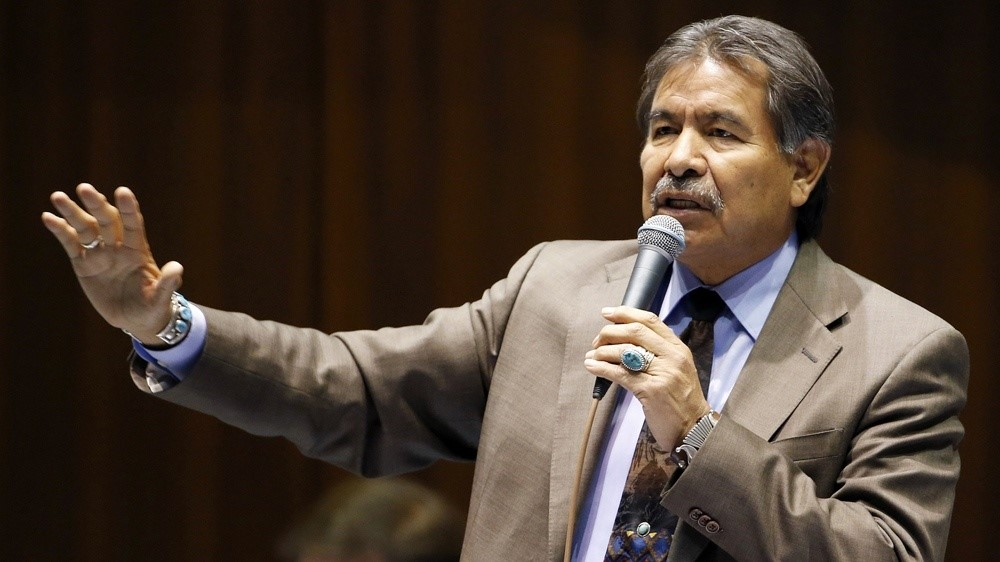face_no_mask: (637, 15, 831, 256)
